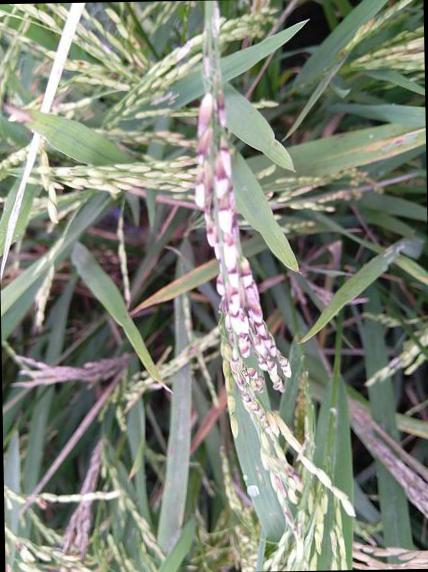Panicle Blight: (194, 0, 289, 437), (351, 34, 424, 69), (269, 467, 302, 542)
